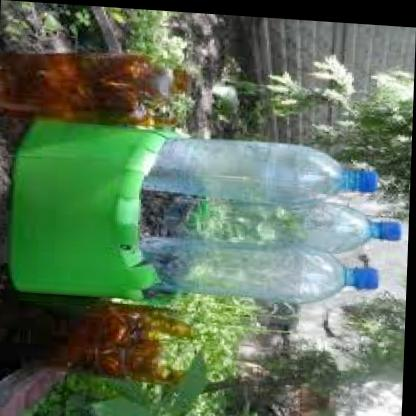Plastic: (16, 298, 187, 396), (163, 140, 387, 208), (170, 233, 384, 304), (6, 38, 178, 126), (156, 194, 411, 249)
